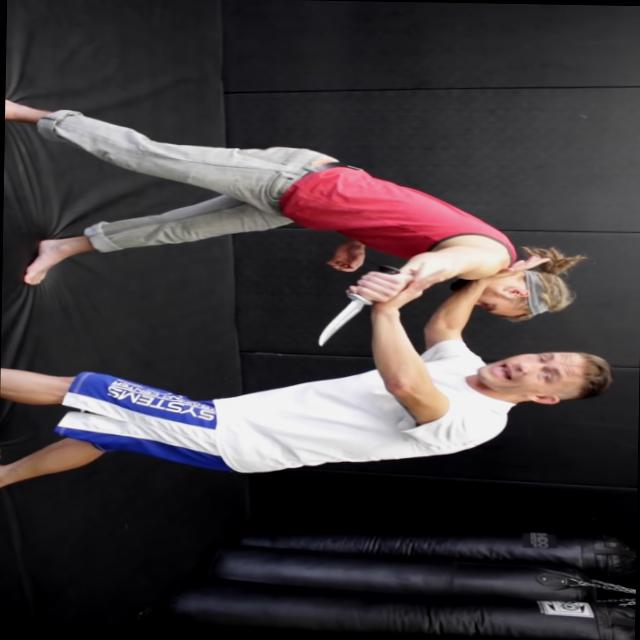knife: (304, 260, 408, 353)
